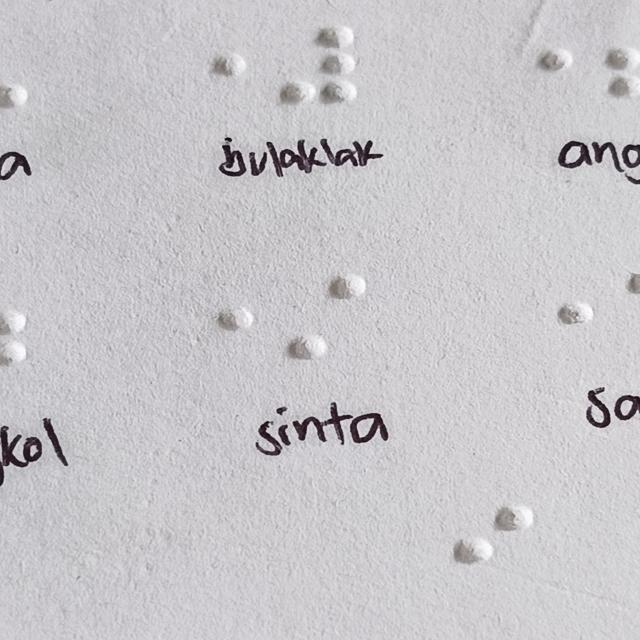bulaklak: (283, 26, 352, 105)
dot_5: (182, 278, 254, 365), (175, 26, 245, 105)
sinta: (292, 276, 364, 363)
